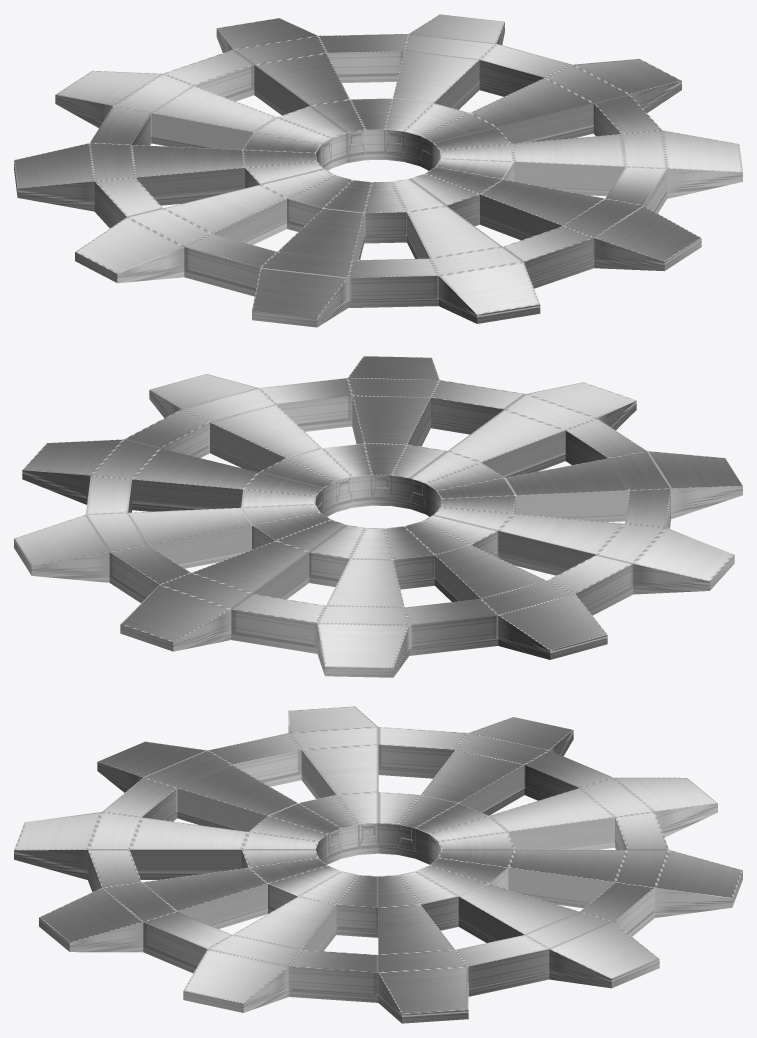
Rendered from gear.fbx.
3 renders of one model, top to bottom at view 1: azimuth 30°, elevation 25°; view 2: azimuth 150°, elevation 25°; view 3: azimuth 270°, elevation 25°, orthographic.
Parts seen in each view (by area): view 1: gia; view 2: gia; view 3: gia.
Boxes of the visible parts, x1=… form: gia: x1=14, y1=14, x2=742, y2=327; gia: x1=14, y1=356, x2=742, y2=677; gia: x1=14, y1=706, x2=742, y2=1023.
Size of the model in its own units: 2.51 by 0.1151 by 2.51.
